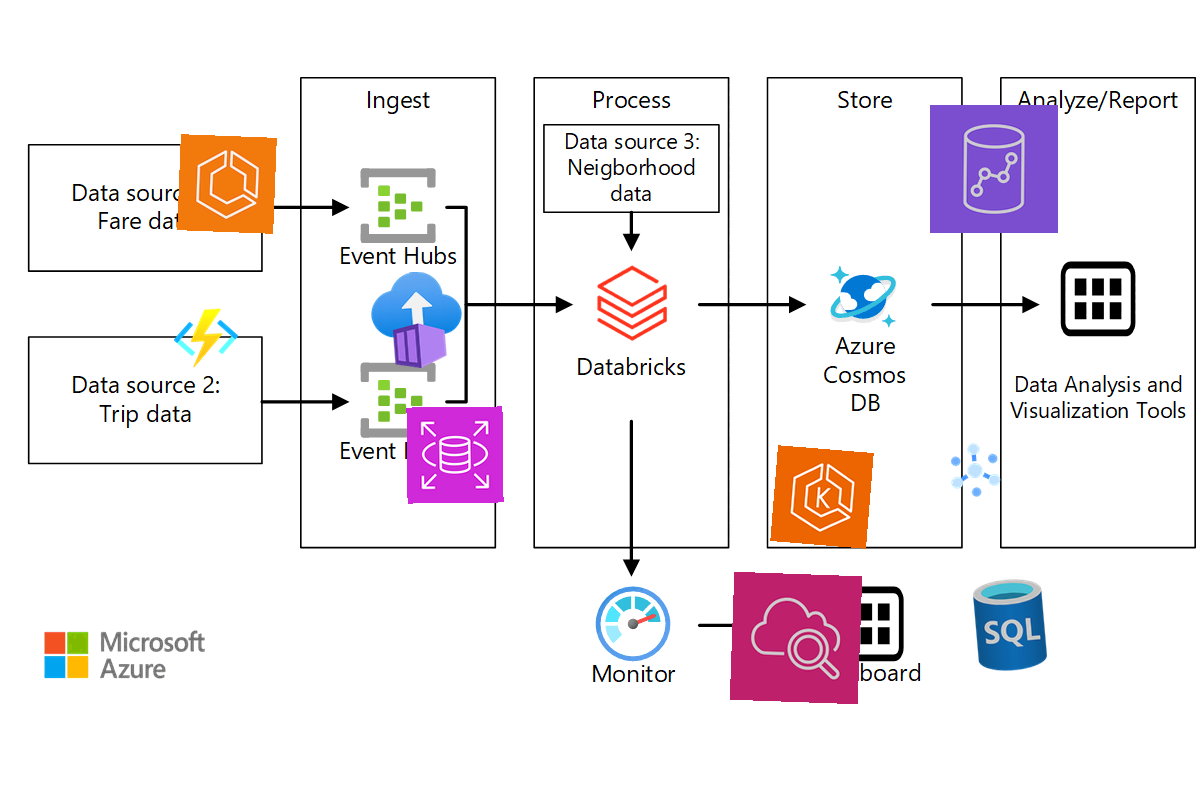aws_amazon_cloudwatch: (729, 571, 863, 705)
aws_amazon_elastic_container_service: (177, 134, 277, 234)
aws_amazon_elastic_kubernetes_service: (770, 445, 874, 549)
aws_amazon_rds: (406, 406, 504, 504)
aws_amazon_redshift: (929, 104, 1059, 234)
azure_container_instances: (365, 268, 469, 372)
azure_function_apps: (171, 303, 241, 373)
azure_sql_database: (958, 573, 1062, 677)
gcp_pubsub: (940, 435, 1010, 505)
